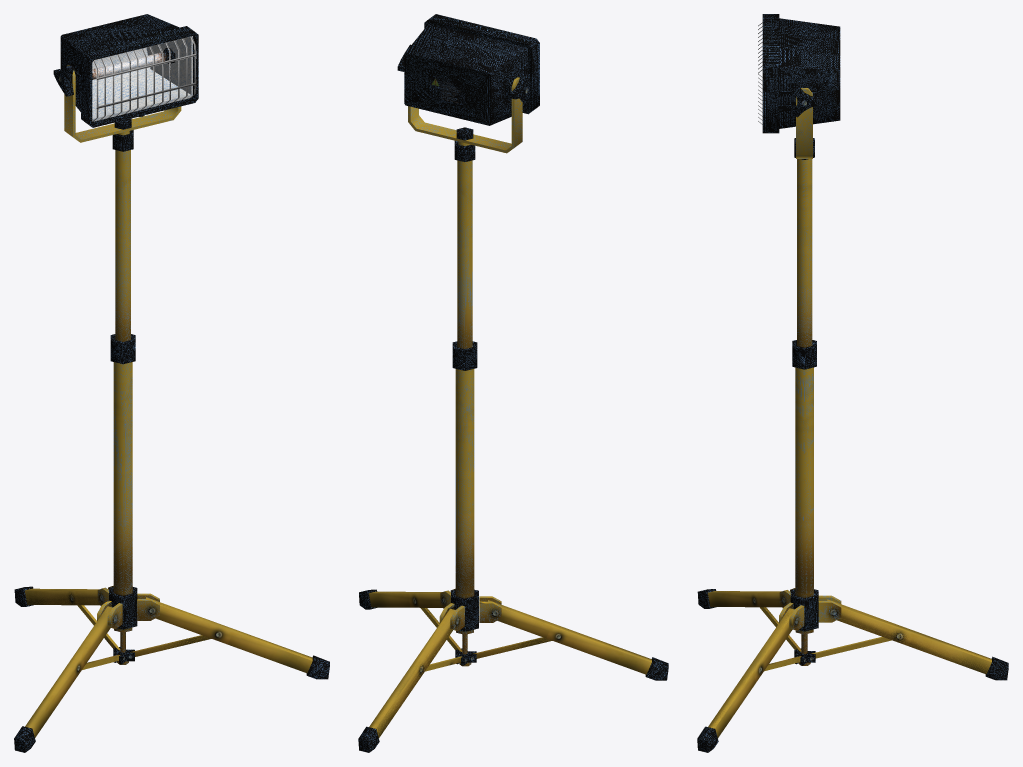
3 views of the same model, side by side, from view 1: azimuth 30°, elevation 25°; view 2: azimuth 150°, elevation 25°; view 3: azimuth 270°, elevation 25° (orthographic).
Visible parts, largest first — view 1: construction_spotlights_2_a_ (×13); view 2: construction_spotlights_2_a_ (×11); view 3: construction_spotlights_2_a_ (×10).
Boxes of the visible parts, x1,y1,x2,y2 form: construction_spotlights_2_a_ (×13): (24, 14, 312, 737); construction_spotlights_2_a_ (×11): (369, 14, 651, 737); construction_spotlights_2_a_ (×10): (708, 14, 991, 737).
Bounding box in the file's own units: 32.73 × 28.37 × 64.19.
